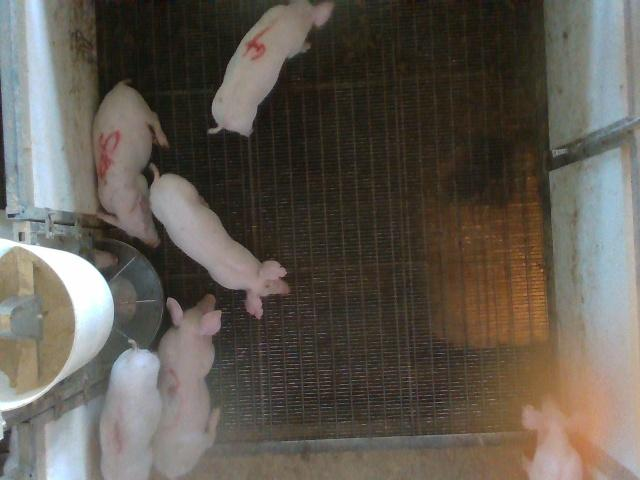pig-1: (101, 341, 162, 479)
pig-3: (154, 295, 221, 478)
pig-4: (214, 0, 336, 136)
pig-5: (94, 80, 169, 247)
